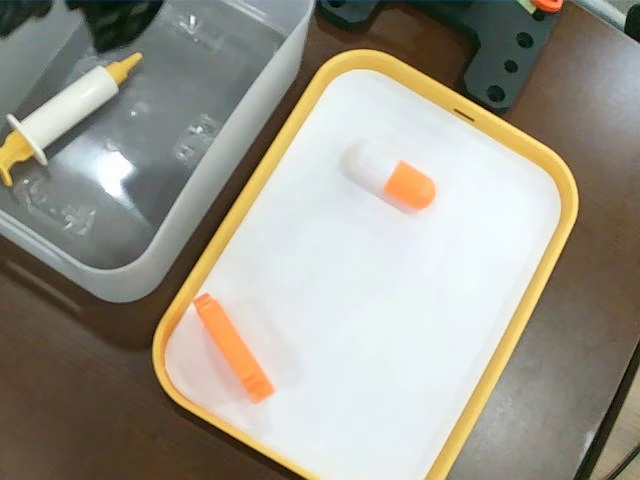pill: (345, 140, 439, 216)
syringe: (0, 52, 145, 184)
